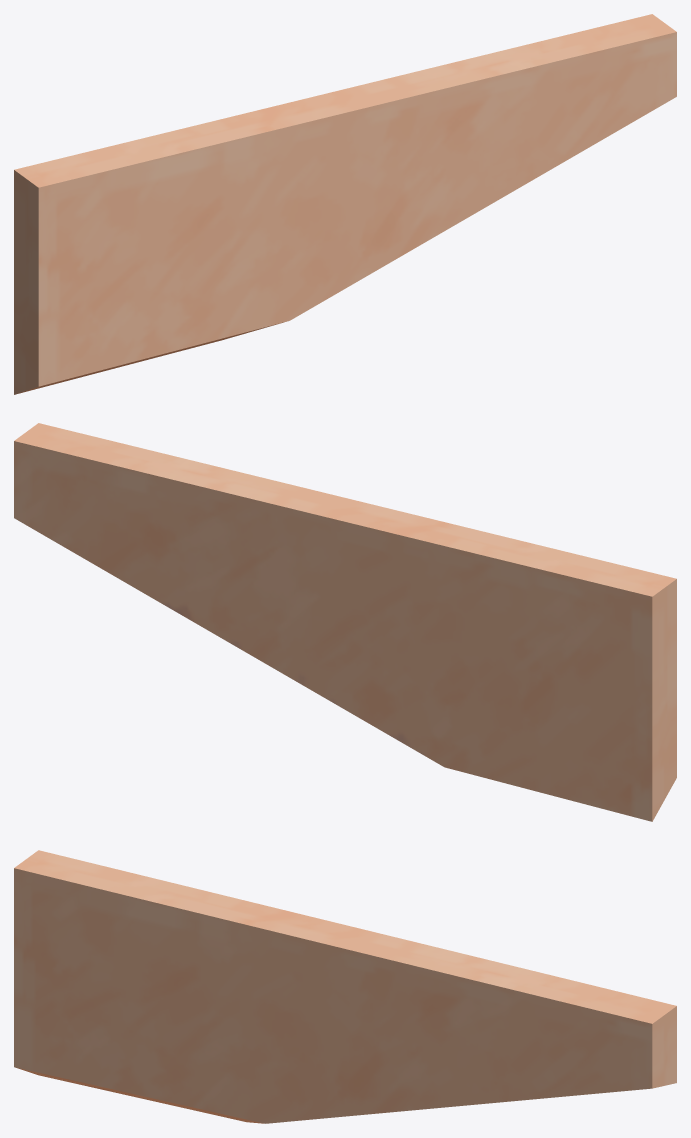
File: spout_s04.fbx
The picture shows the model from 3 angles, top to bottom: view 1: azimuth 30°, elevation 25°; view 2: azimuth 150°, elevation 25°; view 3: azimuth 330°, elevation 25°; orthographic projection.
Visible parts, largest first — view 1: spout_s04; view 2: spout_s04; view 3: spout_s04.
Part boxes in pixels (x1,y1,x2,y2): spout_s04: [14, 14, 676, 394]; spout_s04: [14, 423, 676, 821]; spout_s04: [14, 850, 676, 1123].
Size of the model in its own units: 3 by 1.01 by 0.2.
